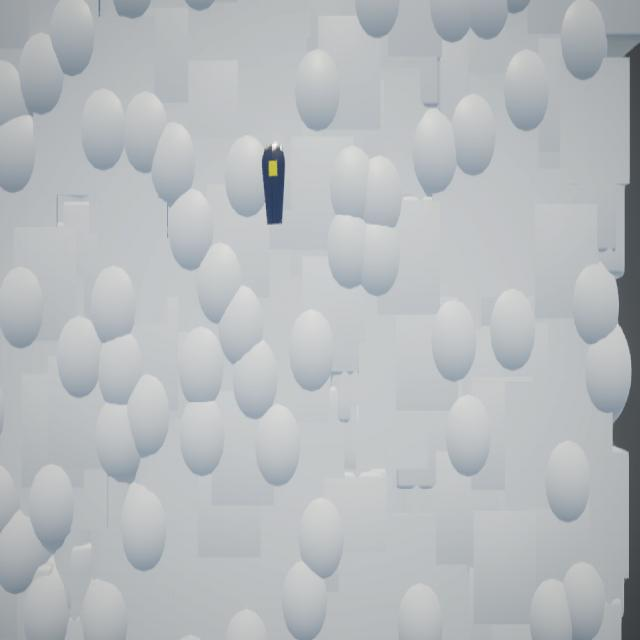handle_folk: (263, 145, 286, 226)
